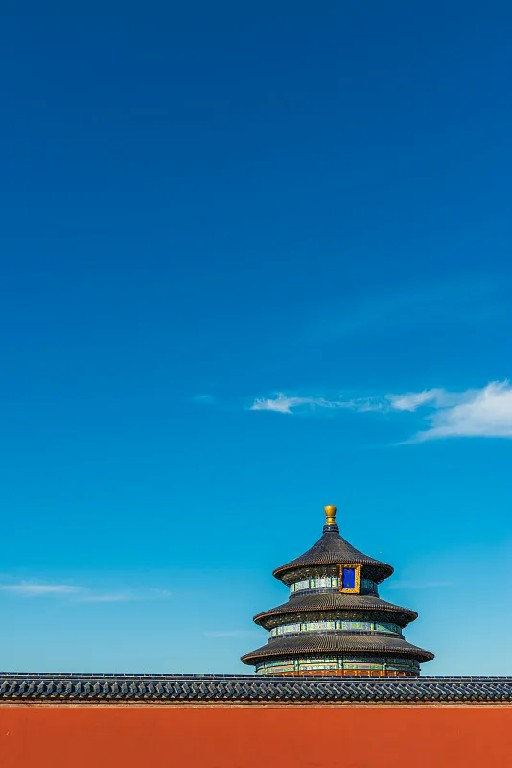Heaven: (242, 505, 434, 677)
